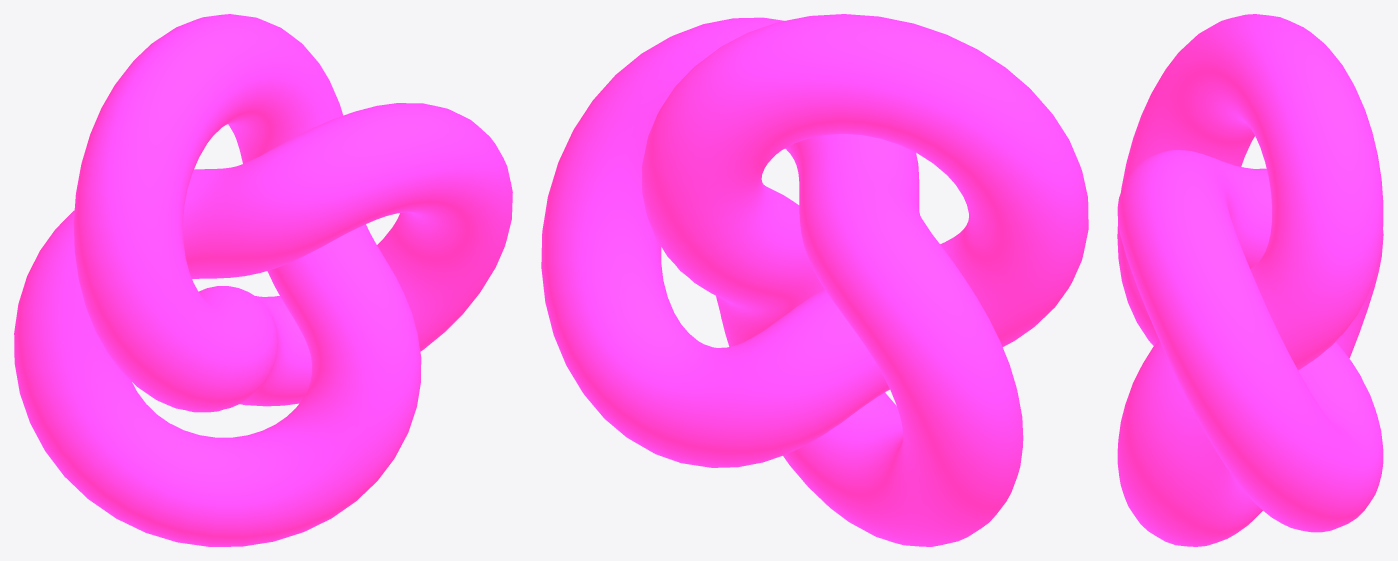
Rendered from torusKnot.glb.
The picture shows the model from 3 angles, left to right: view 1: azimuth 30°, elevation 25°; view 2: azimuth 150°, elevation 25°; view 3: azimuth 270°, elevation 25°; orthographic projection. The views are drawn at different scales.
Parts seen in each view (by area): view 1: torusKnot; view 2: torusKnot; view 3: torusKnot.
Boxes of the visible parts, x1,y1,x2,y2 form: torusKnot: [14, 14, 512, 546]; torusKnot: [541, 14, 1088, 546]; torusKnot: [1117, 14, 1383, 546].
Size of the model in its own units: 1.7 by 1.77 by 0.8598.
